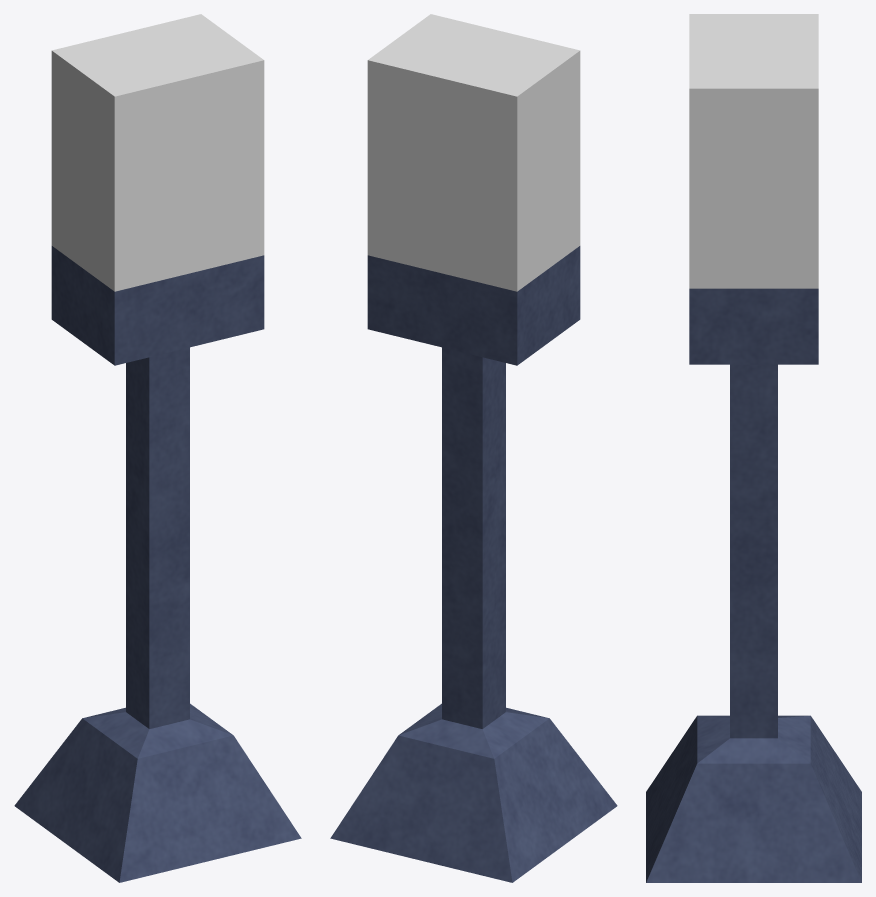
The model's file is lectern.glb.
The picture shows the model from 3 angles, left to right: view 1: azimuth 30°, elevation 25°; view 2: azimuth 150°, elevation 25°; view 3: azimuth 270°, elevation 25°; orthographic projection. The views are drawn at different scales.
Visible parts, largest first — view 1: sylus.lectern.body, sylus.lectern.glass; view 2: sylus.lectern.body, sylus.lectern.glass; view 3: sylus.lectern.body, sylus.lectern.glass.
Boxes of the visible parts, bbox=[...] form: sylus.lectern.body: bbox=[14, 246, 301, 882]; sylus.lectern.glass: bbox=[51, 14, 264, 291]; sylus.lectern.body: bbox=[330, 246, 617, 882]; sylus.lectern.glass: bbox=[367, 14, 580, 291]; sylus.lectern.body: bbox=[646, 288, 861, 882]; sylus.lectern.glass: bbox=[689, 14, 818, 288].
Bounding box in the file's own units: 2 × 8.04 × 2.
1 material, 1 textured.
